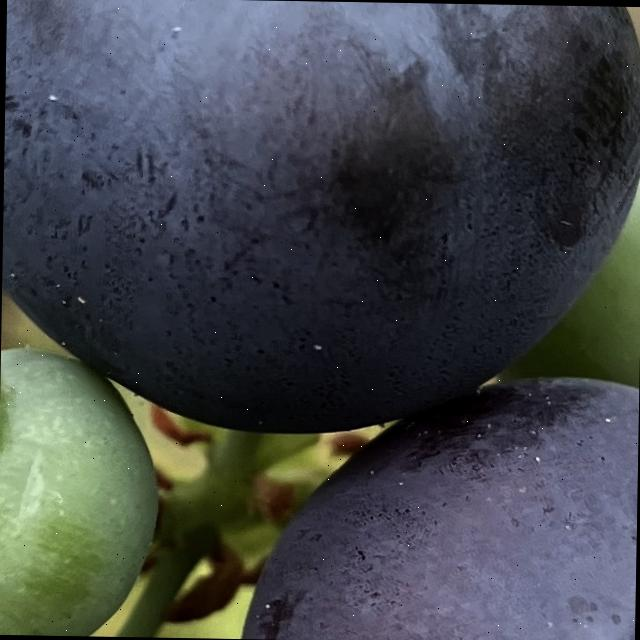Blueberries: (0, 0, 640, 444), (220, 365, 639, 640), (0, 285, 175, 637)
